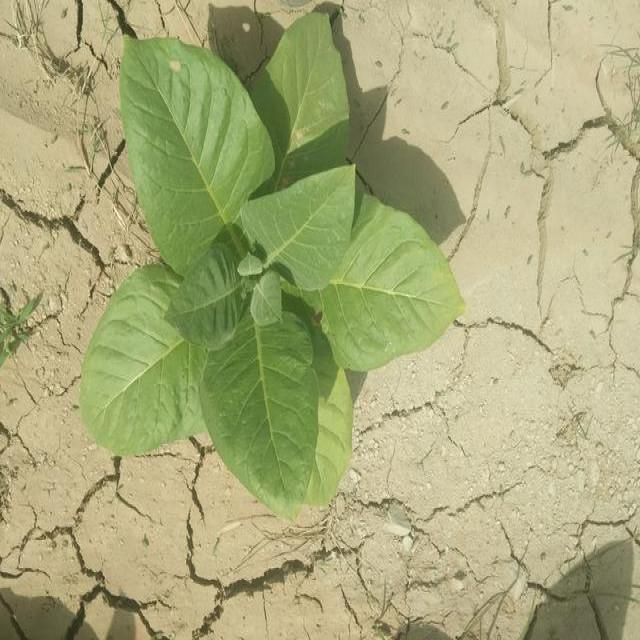crop: (82, 20, 458, 503)
